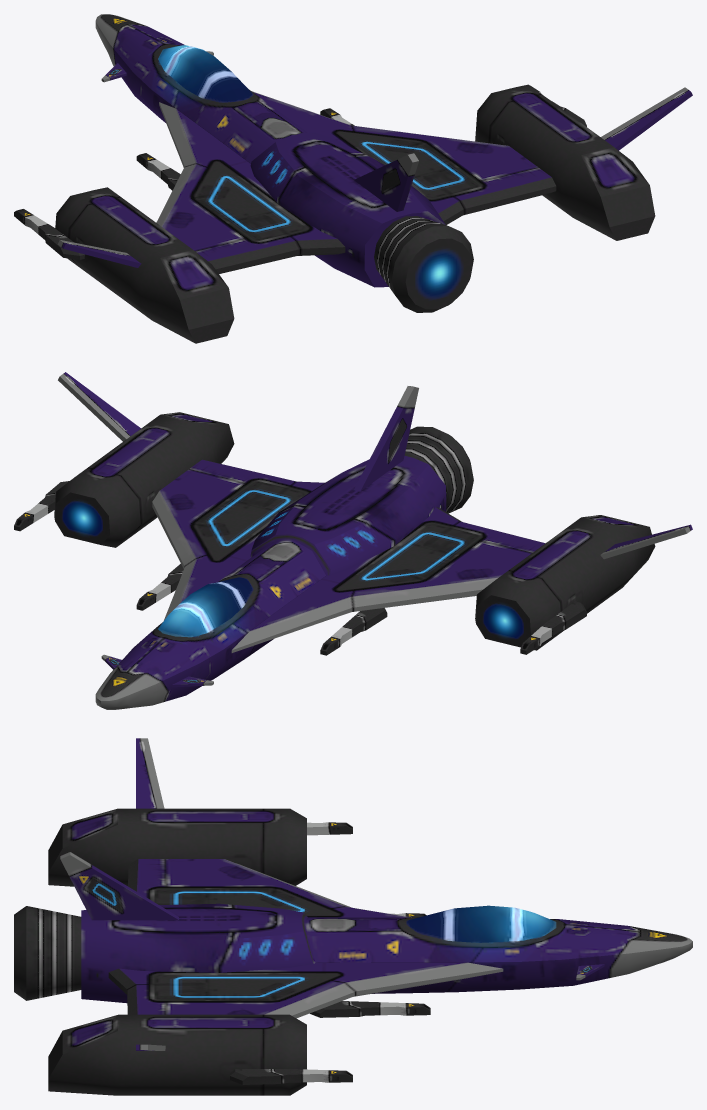
Rendered from scout2.gltf.
3 views of the same model, one above another, from view 1: azimuth 30°, elevation 25°; view 2: azimuth 150°, elevation 25°; view 3: azimuth 270°, elevation 25° (orthographic).
Visible parts, largest first — view 1: scout2; view 2: scout2; view 3: scout2.
Boxes of the visible parts, x1,y1,x2,y2 form: scout2: [14, 14, 692, 343]; scout2: [14, 372, 692, 709]; scout2: [14, 738, 692, 1095].
Size of the model in its own units: 11.66 by 2.52 by 10.85.
Materials: 1 (1 with a texture image).
